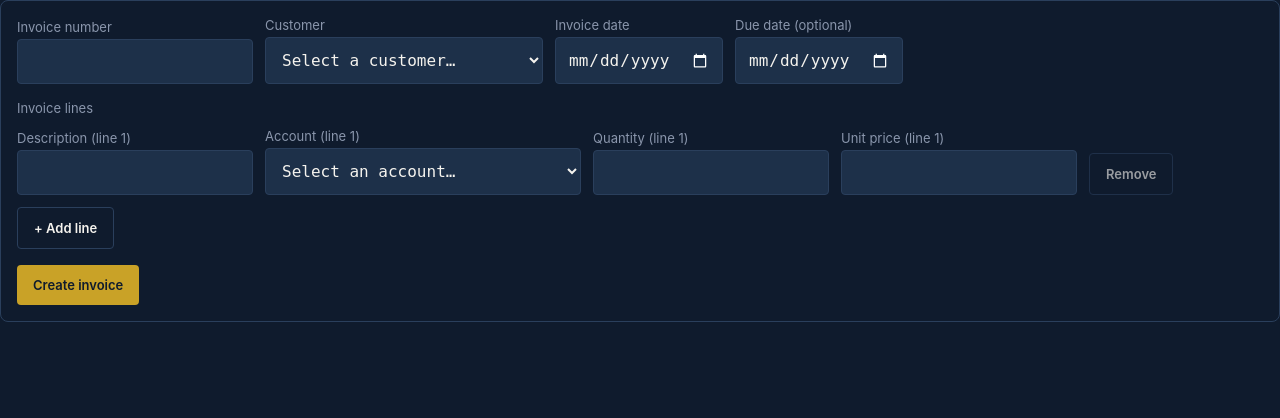
CreateARInvoiceForm › adds a new, independently-fillable line when "+ Add line" is clicked
Click the button "+ Add line": (66, 228) [17,207,114,249]
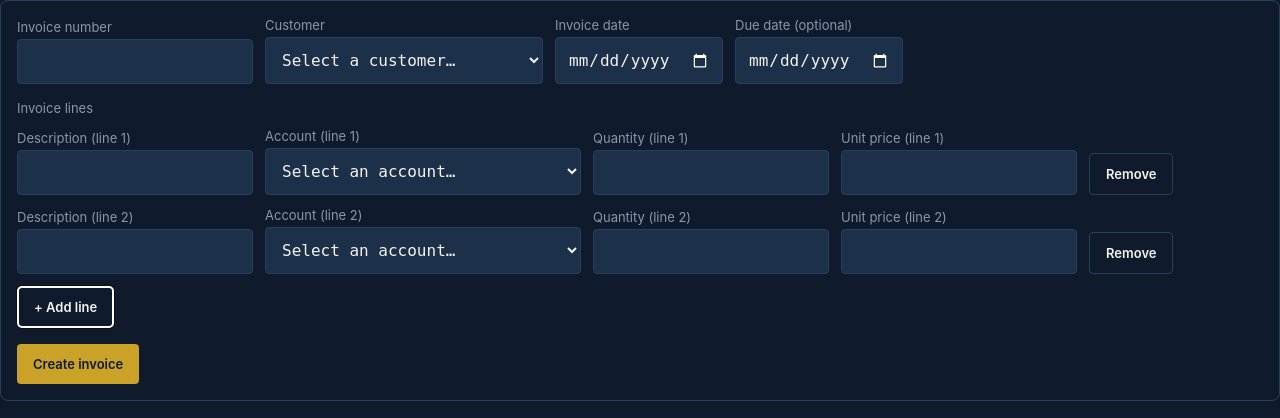
Now the field labelled "Description (line 2)" is shown, box [17,229,253,274]
Now the dropdown labelled "Account (line 2)" is shown, box [265,227,581,274]
Now the number field labelled "Quantity (line 2)" is shown, box [593,229,829,274]
